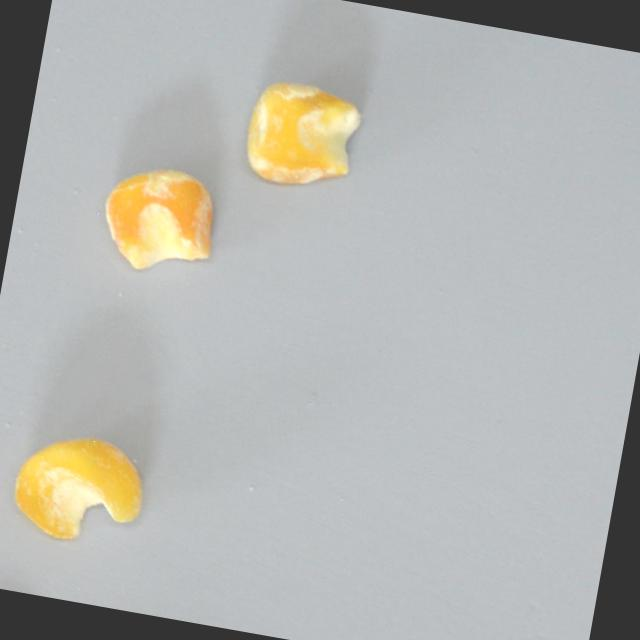dañado: (2, 422, 162, 557), (89, 153, 228, 285), (231, 69, 373, 198)
